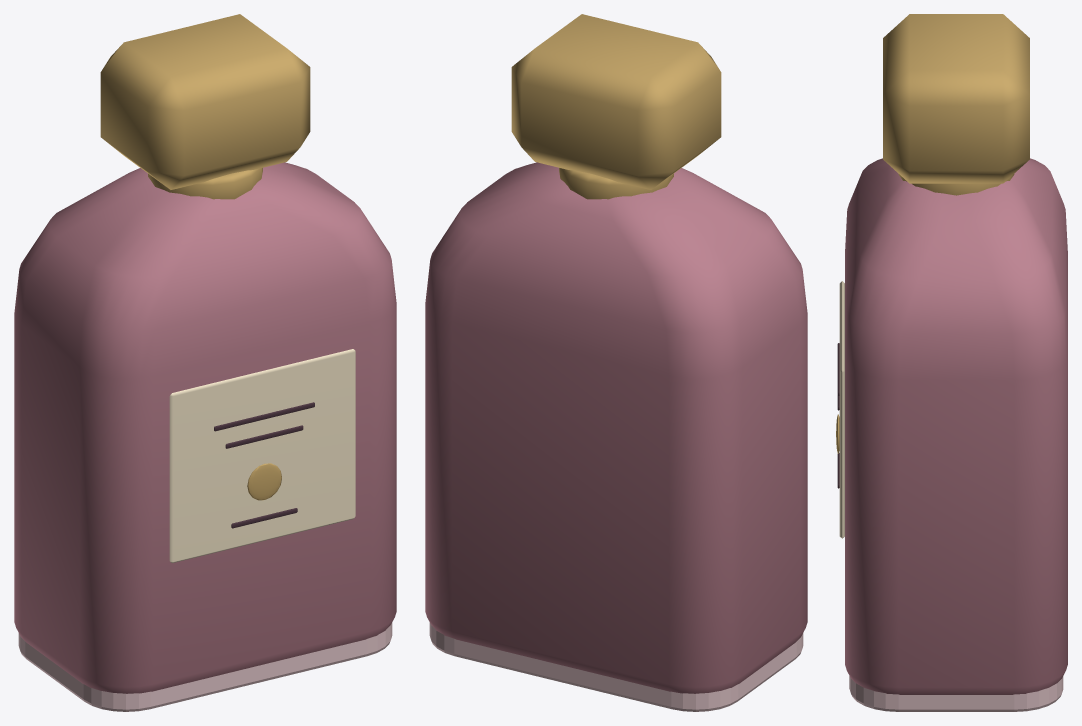
Rendered from P004_perfume_rebuilt.glb.
The picture shows the model from 3 angles, left to right: view 1: azimuth 30°, elevation 25°; view 2: azimuth 150°, elevation 25°; view 3: azimuth 270°, elevation 25°; orthographic projection.
Parts seen in each view (by area): view 1: Frosted_rose_glass_graphic_opaque, Perfume_brushed_gold, Perfume_ivory_paper_label, Thick_pale_glass_edge, Perfume_charcoal_lettering; view 2: Frosted_rose_glass_graphic_opaque, Perfume_brushed_gold, Thick_pale_glass_edge; view 3: Frosted_rose_glass_graphic_opaque, Perfume_brushed_gold, Thick_pale_glass_edge, Perfume_ivory_paper_label.
Part boxes in pixels (bbox=[...]): Frosted_rose_glass_graphic_opaque: bbox=[14, 162, 396, 693]; Perfume_brushed_gold: bbox=[100, 14, 310, 500]; Perfume_ivory_paper_label: bbox=[169, 349, 355, 563]; Thick_pale_glass_edge: bbox=[18, 622, 392, 711]; Perfume_charcoal_lettering: bbox=[214, 402, 314, 528]; Frosted_rose_glass_graphic_opaque: bbox=[425, 162, 807, 693]; Perfume_brushed_gold: bbox=[511, 14, 721, 199]; Thick_pale_glass_edge: bbox=[429, 622, 803, 711]; Frosted_rose_glass_graphic_opaque: bbox=[845, 158, 1067, 694]; Perfume_brushed_gold: bbox=[836, 14, 1029, 453]; Thick_pale_glass_edge: bbox=[849, 676, 1063, 711]; Perfume_ivory_paper_label: bbox=[839, 281, 844, 538].
Bounding box in the file's own units: 0.08 × 0.148 × 0.052.
